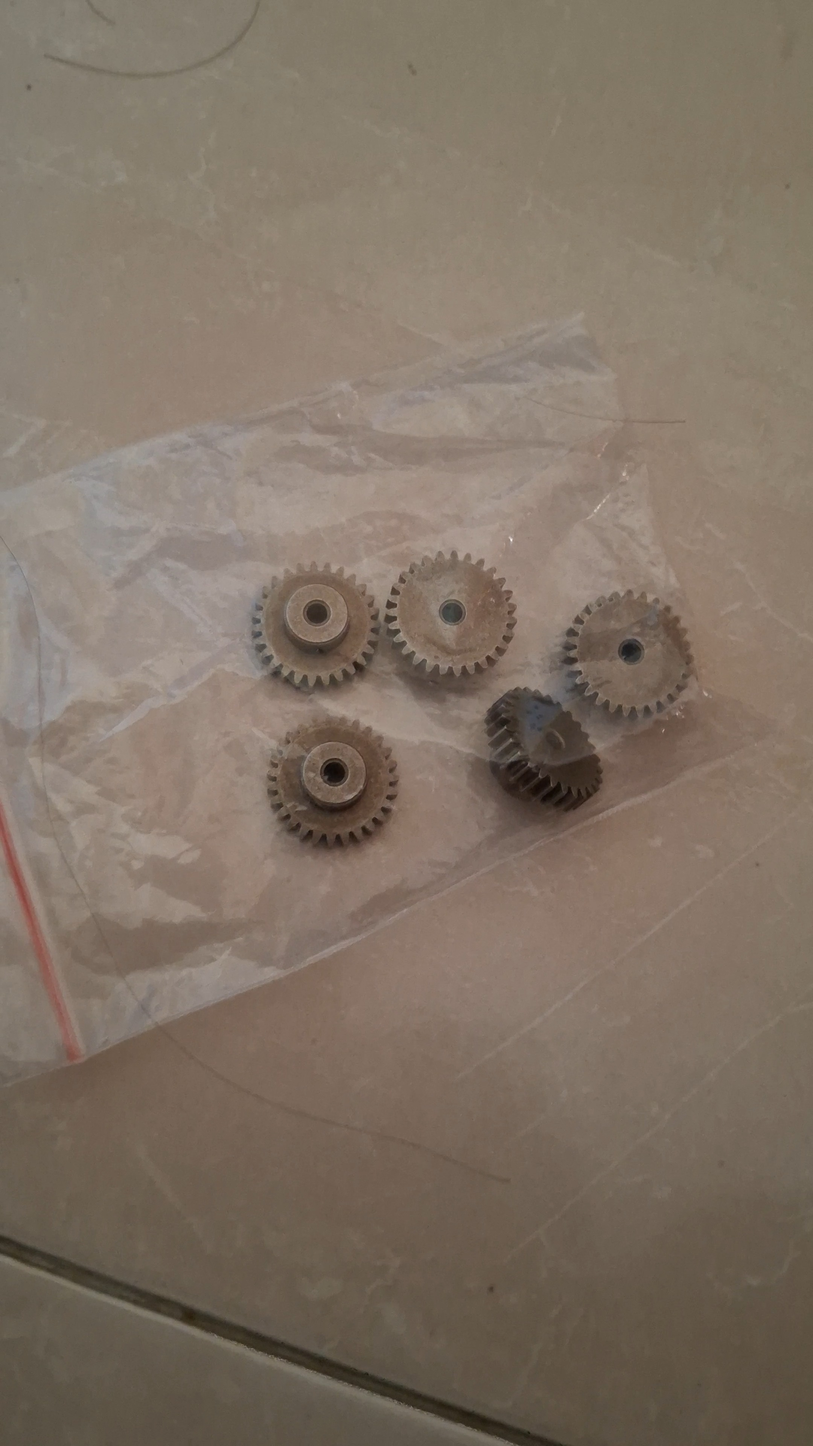spur gear: (268, 718, 397, 845), (385, 551, 515, 677), (566, 590, 693, 717), (252, 563, 379, 688), (486, 688, 601, 810)
